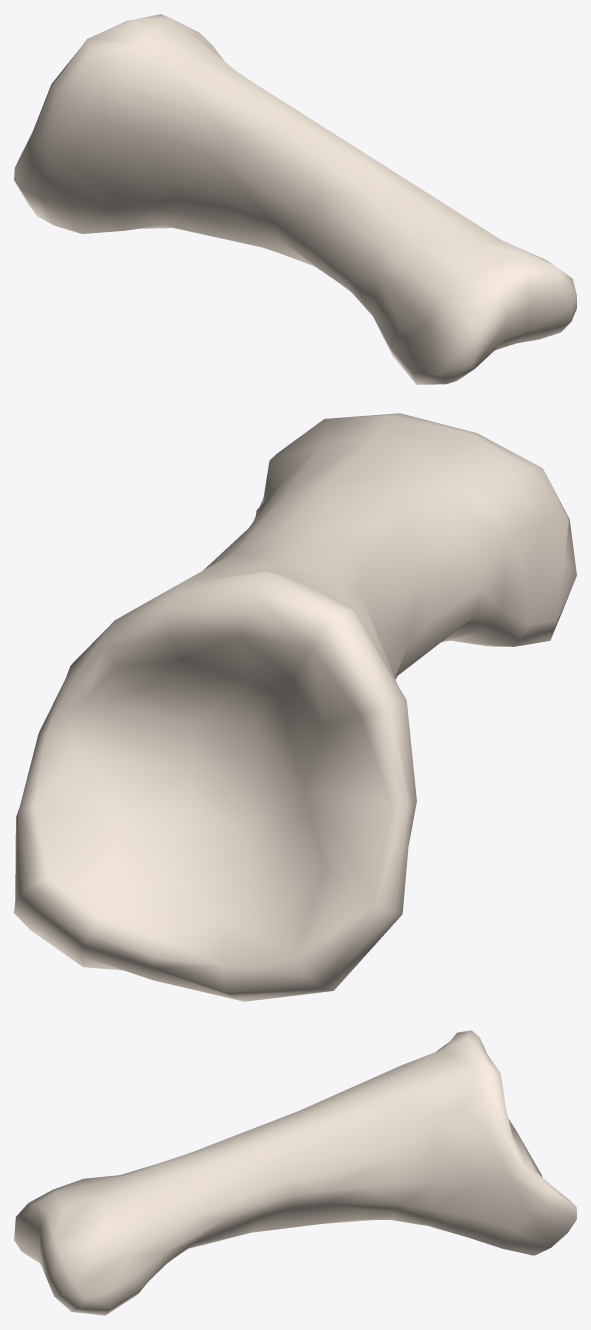
Rendered from left_toe_3_proximal.glb.
3 views of the same model, one above another, from view 1: azimuth 30°, elevation 25°; view 2: azimuth 150°, elevation 25°; view 3: azimuth 270°, elevation 25° (orthographic). The views are drawn at different scales.
Parts seen in each view (by area): view 1: Proximal phalanx of third finger of foot.r; view 2: Proximal phalanx of third finger of foot.r; view 3: Proximal phalanx of third finger of foot.r.
Part boxes in pixels (bbox=[...]): Proximal phalanx of third finger of foot.r: bbox=[14, 14, 576, 384]; Proximal phalanx of third finger of foot.r: bbox=[14, 413, 576, 1001]; Proximal phalanx of third finger of foot.r: bbox=[14, 1030, 576, 1315].
Bounding box in the file's own units: 0.0172 × 0.0114 × 0.0295.
